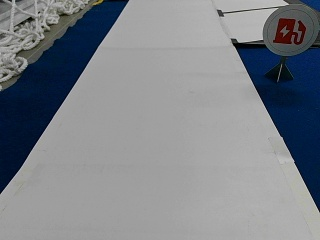battery: (262, 4, 318, 57)
